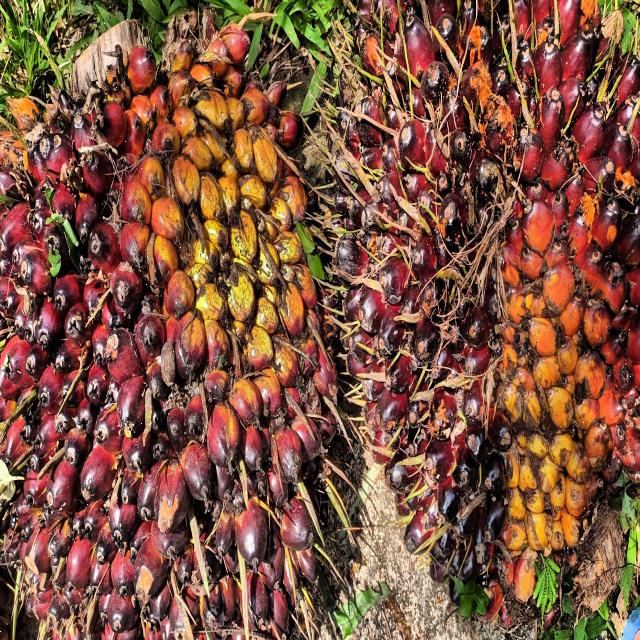FFB: (2, 33, 342, 640), (323, 0, 640, 588)
